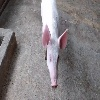heo: (41, 21, 69, 93)
